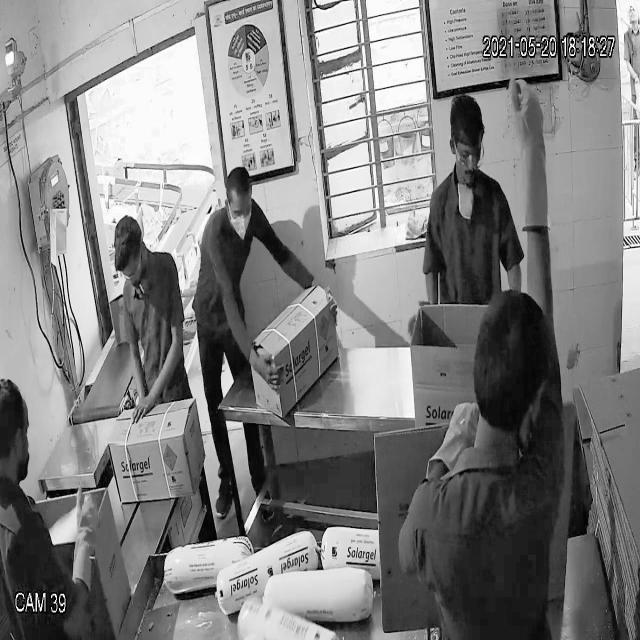glasses: (450, 130, 488, 167), (117, 253, 145, 284)
no-glass: (225, 193, 255, 223)
